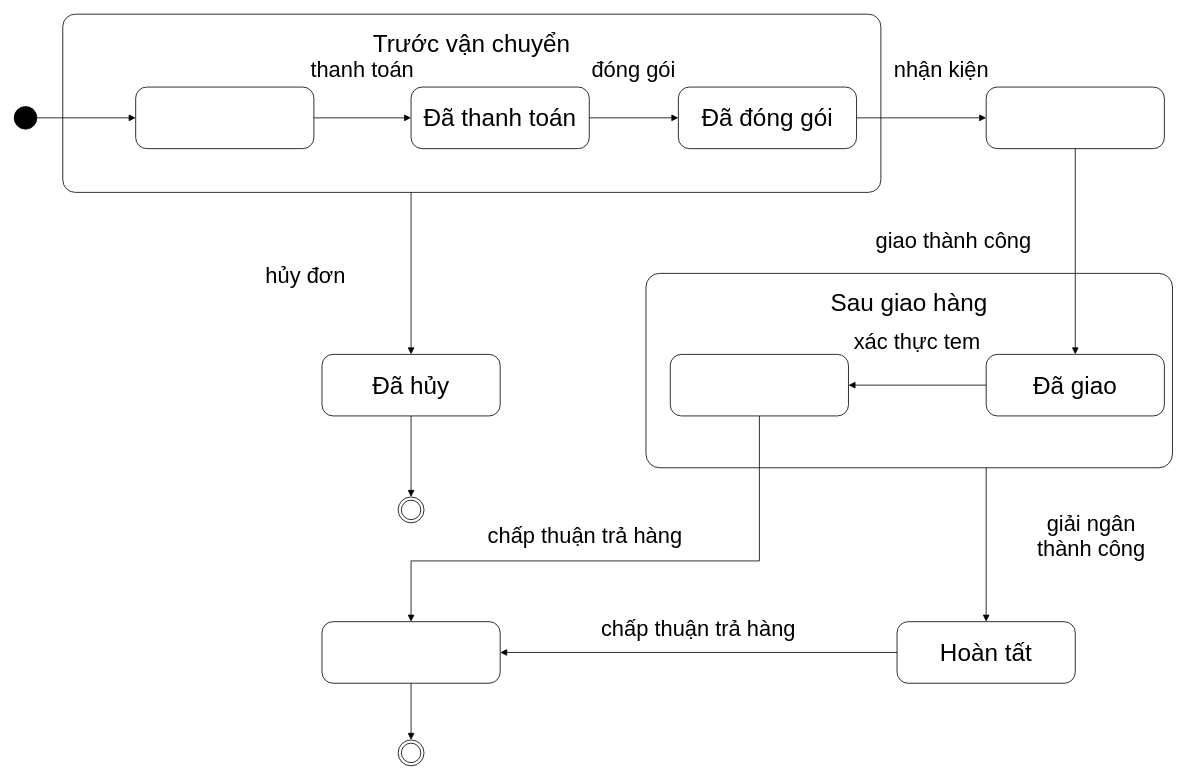
Some shapes in this 1187 by 780 pixel diagram are drawn without their labels. The centre of each missing label's shape, as x and y in pixels:
"Chờ thanh toán" goes at (x=224, y=117).
"Trả hàng" goes at (x=410, y=652).
"Đang giao" goes at (x=1074, y=117).
"Đã xác thực" goes at (x=758, y=385).
